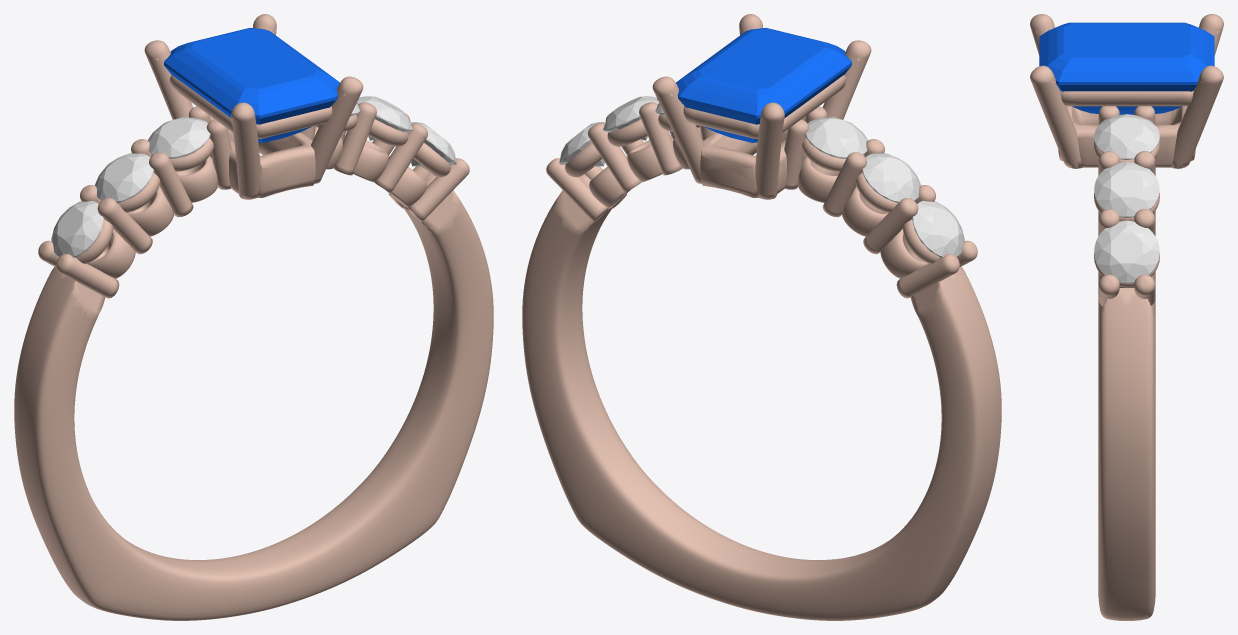
File: bluesapphire-emerald-rosegold-4prong-europeanshank-7stone.glb
3 renders of one model, left to right at view 1: azimuth 30°, elevation 25°; view 2: azimuth 150°, elevation 25°; view 3: azimuth 270°, elevation 25°, orthographic.
Visible parts, largest first — view 1: metal, stone, side, side.001, side.002, side.004, side.005; view 2: metal, stone, side, side.001, side.002, side.004, side.005; view 3: metal, stone, side.005, side.004, side.003.
Part boxes in pixels (x1,y1,x2,y2): metal: (14,14,493,620); stone: (164,28,339,142); side: (51,200,103,257); side.001: (95,153,153,202); side.002: (147,117,210,158); side.004: (357,96,412,140); side.005: (410,122,456,166); metal: (522,14,1001,620); stone: (676,28,851,142); side: (912,200,964,257); side.001: (862,153,920,202); side.002: (805,117,868,158); side.004: (603,96,658,140); side.005: (559,122,605,166); metal: (1030,14,1223,620); stone: (1039,22,1214,114); side.005: (1094,220,1159,283); side.004: (1094,161,1159,217); side.003: (1094,114,1159,159).
Size of the model in its own units: 20.1 by 22.75 by 7.4.
